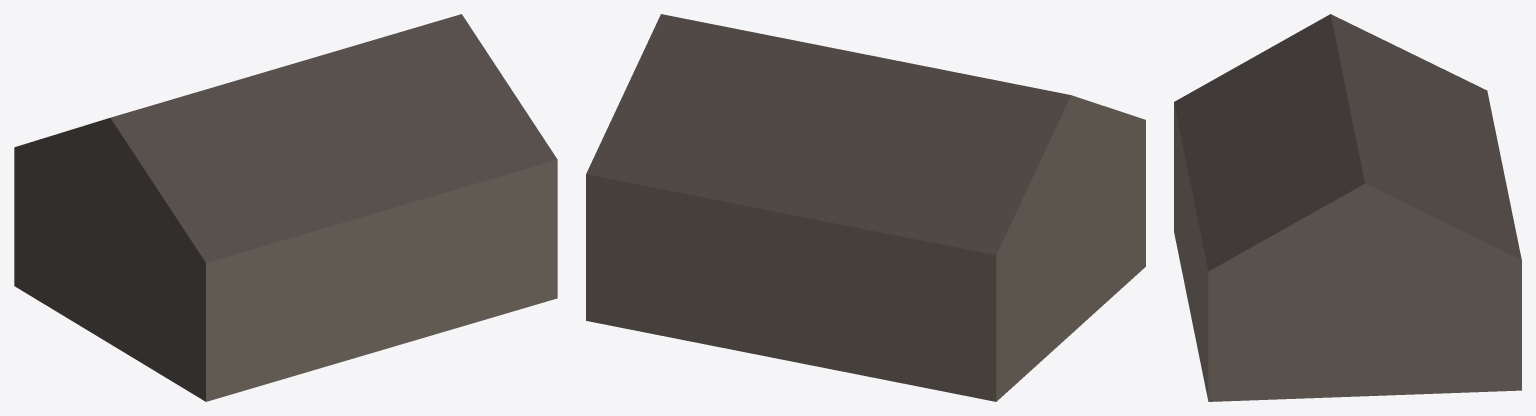
3 views of the same model, side by side, from view 1: azimuth 30°, elevation 25°; view 2: azimuth 150°, elevation 25°; view 3: azimuth 270°, elevation 25° (orthographic). The views are drawn at different scales.
Parts seen in each view (by area): view 1: HP-w1200788465; view 2: HP-w1200788465; view 3: HP-w1200788465.
Boxes of the visible parts, box(x1,y1,x2,y2) form: HP-w1200788465: box(14, 14, 557, 401); HP-w1200788465: box(586, 14, 1145, 401); HP-w1200788465: box(1174, 14, 1521, 401).
Size of the model in its own units: 17.87 by 9.79 by 14.5.
